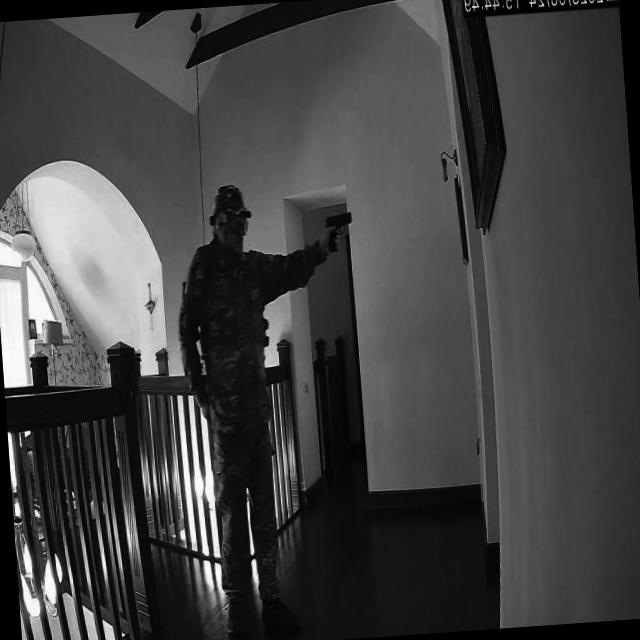gun: (323, 208, 356, 254)
person with a gun: (170, 175, 343, 638)
